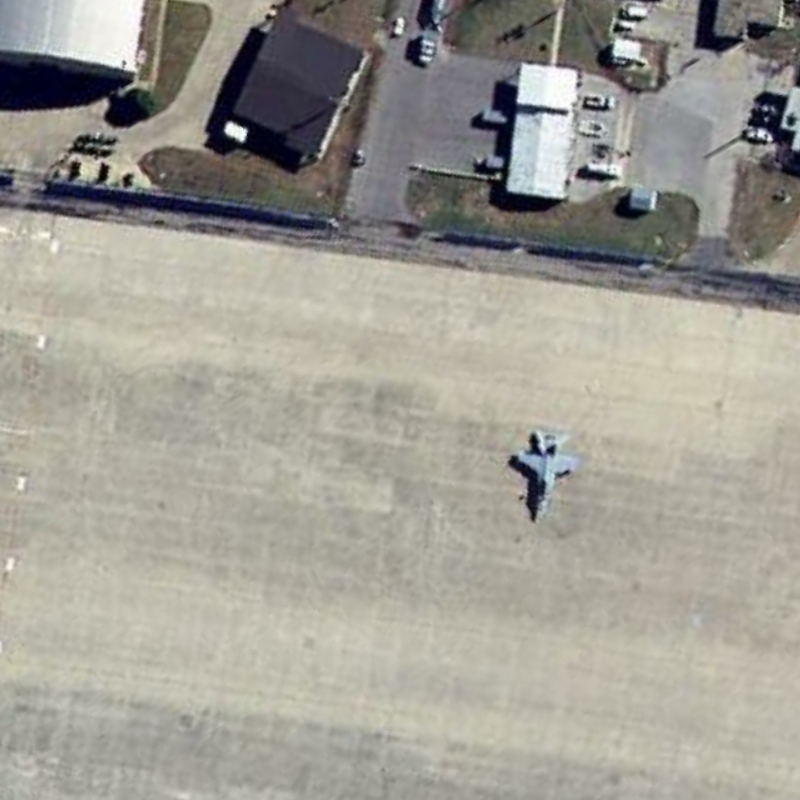A16: (505, 415, 587, 531)
